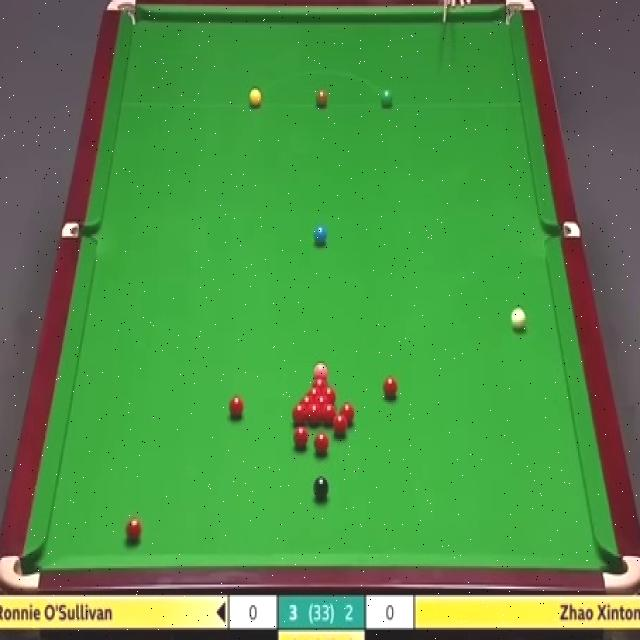black-ball: (313, 476, 330, 502)
blue-ball: (314, 226, 327, 246)
brown-ball: (315, 90, 328, 108)
green-ball: (380, 88, 393, 109)
pink-ball: (313, 361, 327, 374)
red-ball: (126, 515, 143, 544), (227, 396, 245, 421), (293, 426, 310, 450), (383, 376, 398, 402), (314, 432, 329, 456), (291, 403, 307, 425), (322, 404, 337, 426), (333, 415, 347, 438), (340, 403, 354, 426), (307, 402, 321, 424), (323, 385, 336, 402), (310, 375, 328, 385), (306, 386, 322, 395), (299, 395, 314, 404), (314, 395, 329, 403)
white-ball: (511, 306, 526, 332)
yellow-ball: (248, 89, 261, 108)
